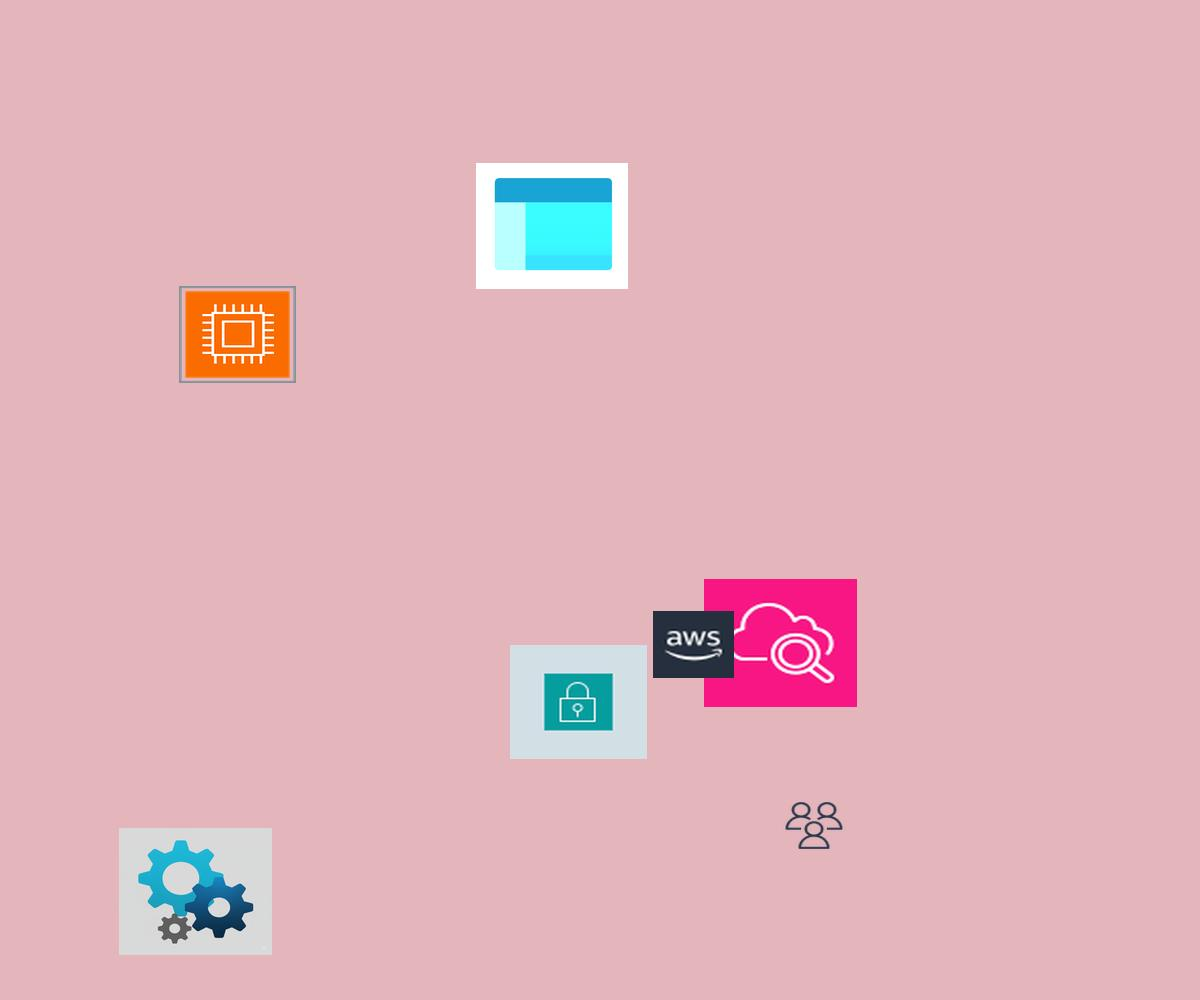AWS-Category_Compute: (179, 286, 296, 383)
AWS-Cloud-logo: (653, 611, 734, 678)
AWS-CloudWatch: (704, 579, 857, 707)
AWS-Private-subnet: (510, 645, 647, 759)
AWS-Res_Users: (783, 800, 845, 851)
Azure_api: (119, 828, 272, 955)
Azure_management-portal: (476, 163, 628, 289)
